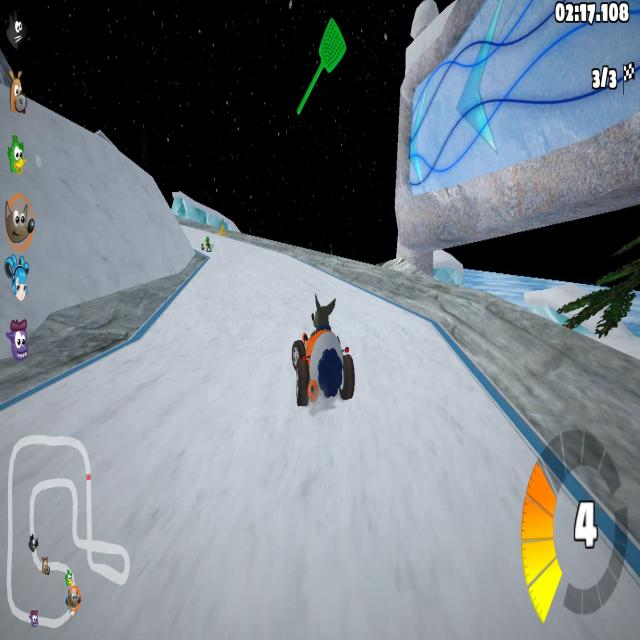enemy_kart: (198, 234, 215, 258)
obstacle: (212, 222, 230, 242)
player_kart: (284, 295, 356, 410)
track: (1, 410, 530, 640), (529, 518, 628, 640), (206, 260, 283, 409), (358, 308, 423, 412), (181, 281, 208, 414), (142, 321, 181, 411), (424, 352, 483, 404), (88, 354, 143, 408), (284, 258, 354, 294), (56, 376, 88, 410), (232, 240, 281, 262), (183, 220, 203, 243), (218, 240, 234, 264)
